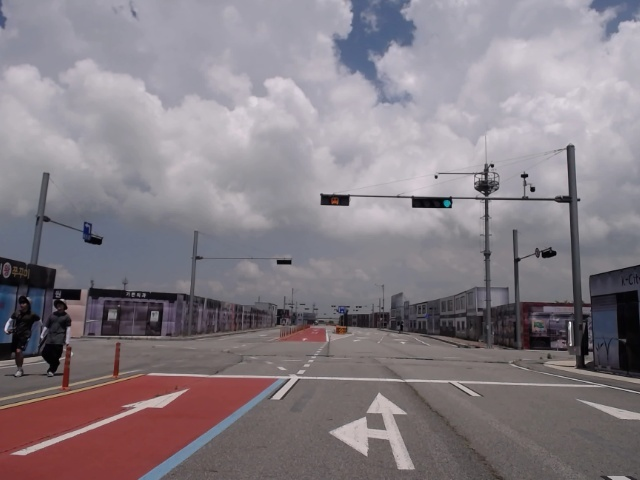straight_green_4: (410, 197, 452, 208)
